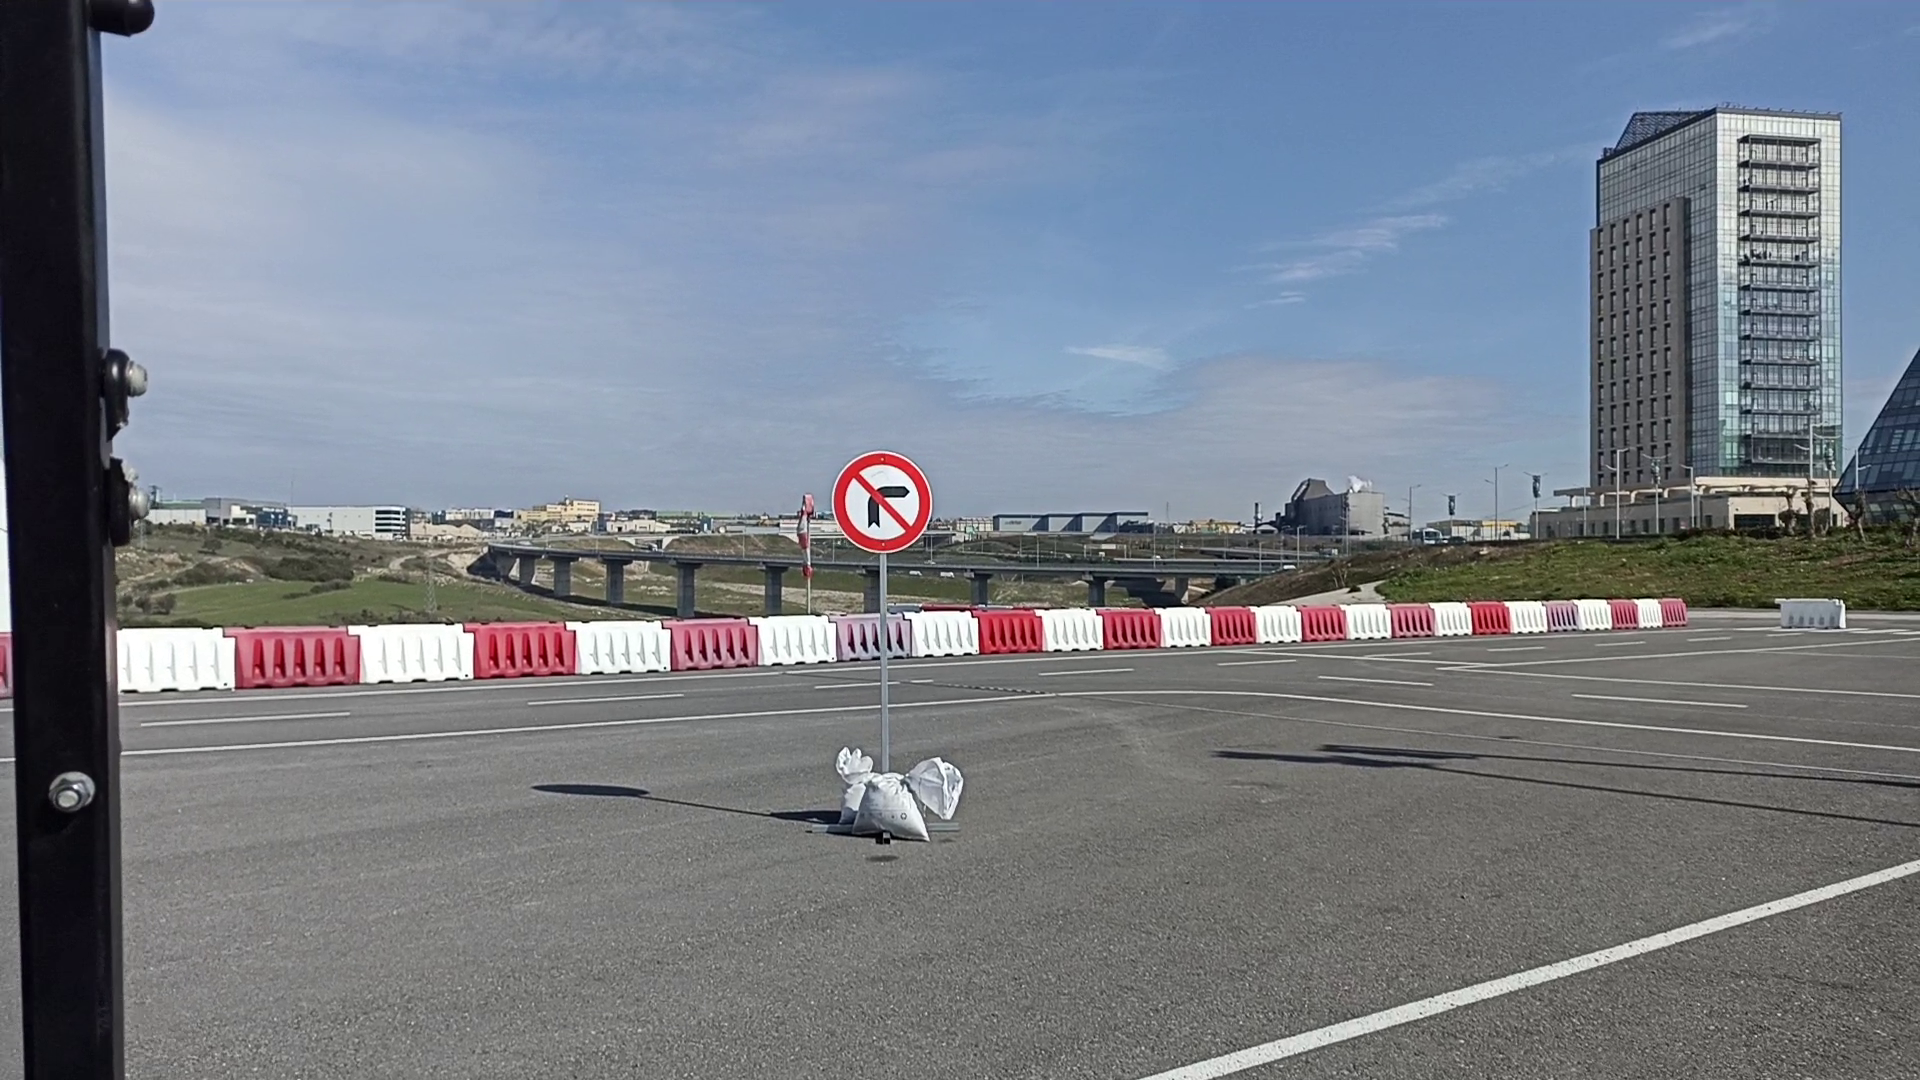noleftturn: (829, 447, 935, 555)
